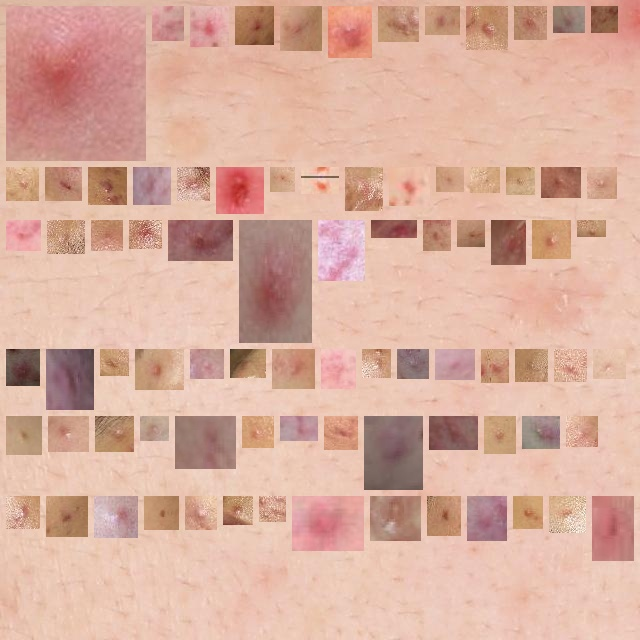papule: (14, 14, 138, 153), (247, 228, 304, 335), (372, 424, 415, 482), (300, 504, 356, 543), (183, 424, 228, 461), (54, 357, 86, 402), (326, 228, 357, 273), (600, 504, 626, 553), (176, 228, 225, 253), (224, 175, 256, 212), (378, 504, 413, 533), (336, 14, 364, 50), (143, 357, 176, 382), (288, 14, 314, 43), (474, 14, 500, 42), (102, 504, 130, 530), (475, 504, 499, 533), (54, 504, 80, 529), (280, 357, 307, 381), (353, 175, 375, 203), (437, 424, 470, 442), (198, 14, 221, 39), (397, 175, 422, 198), (499, 228, 518, 257), (243, 14, 266, 37), (540, 228, 563, 251), (96, 175, 119, 197), (386, 14, 411, 34), (56, 424, 81, 444), (141, 175, 163, 197), (14, 424, 34, 447), (103, 424, 126, 444), (329, 357, 348, 381), (557, 504, 578, 525), (435, 504, 453, 528), (55, 228, 77, 246), (53, 175, 74, 193), (14, 357, 32, 378), (530, 424, 552, 441), (549, 175, 573, 190), (443, 357, 467, 372), (492, 424, 508, 446), (152, 504, 171, 522), (332, 424, 350, 442), (522, 14, 539, 32), (14, 175, 31, 193), (185, 175, 202, 193), (14, 504, 32, 521), (160, 14, 176, 33), (523, 357, 540, 374), (562, 357, 579, 374), (193, 504, 209, 522), (14, 228, 33, 243), (379, 228, 409, 237), (238, 357, 258, 370), (250, 424, 266, 440), (198, 357, 216, 371), (433, 14, 452, 27), (309, 175, 331, 186), (99, 228, 115, 243), (574, 424, 590, 439), (601, 357, 618, 371), (521, 504, 535, 521), (595, 175, 609, 191), (405, 357, 421, 371), (137, 228, 154, 241), (489, 357, 501, 375), (288, 424, 310, 433), (231, 504, 245, 517), (431, 228, 443, 243), (561, 14, 577, 25), (370, 357, 383, 370), (514, 175, 527, 187), (108, 357, 121, 368), (478, 175, 492, 185), (465, 228, 477, 239), (599, 14, 610, 25), (148, 424, 161, 433), (267, 504, 278, 514), (444, 175, 456, 184), (278, 175, 287, 184)
